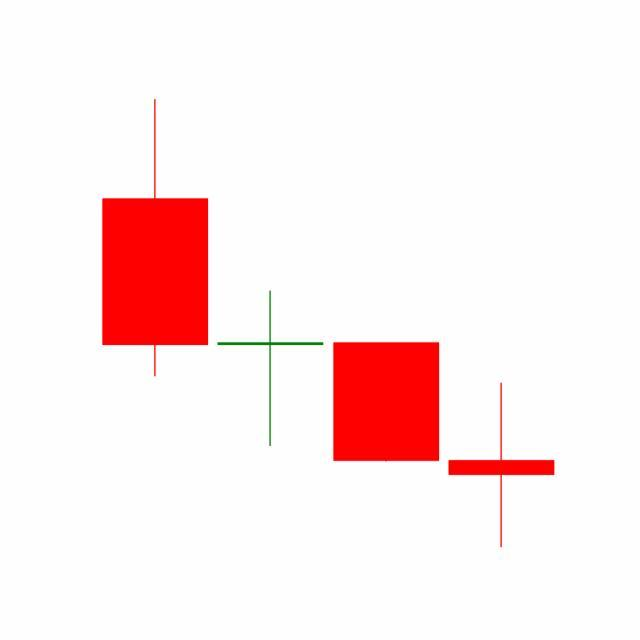Spinning Top: (444, 382, 560, 551)
